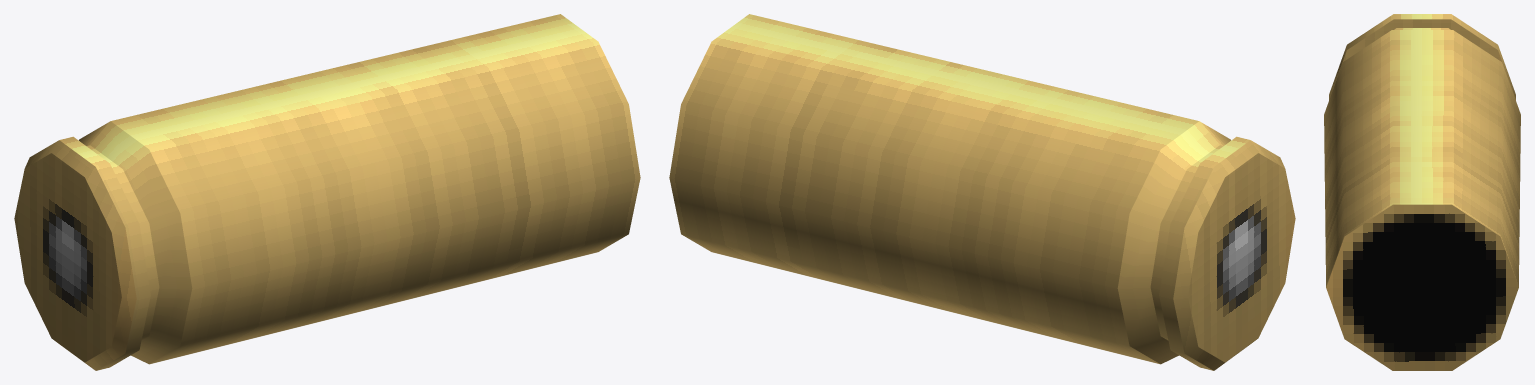
Rendered from ammomaker_CasingStraightL.fbx.
3 renders of one model, left to right at view 1: azimuth 30°, elevation 25°; view 2: azimuth 150°, elevation 25°; view 3: azimuth 270°, elevation 25°, orthographic. The views are drawn at different scales.
Visible parts, largest first — view 1: ammomaker_CasingStraightL; view 2: ammomaker_CasingStraightL; view 3: ammomaker_CasingStraightL.
Boxes of the visible parts, x1=… form: ammomaker_CasingStraightL: x1=14, y1=14, x2=640, y2=370; ammomaker_CasingStraightL: x1=669, y1=14, x2=1295, y2=370; ammomaker_CasingStraightL: x1=1324, y1=14, x2=1520, y2=370.
Size of the model in its own units: 3.26 by 1.31 by 1.38.
